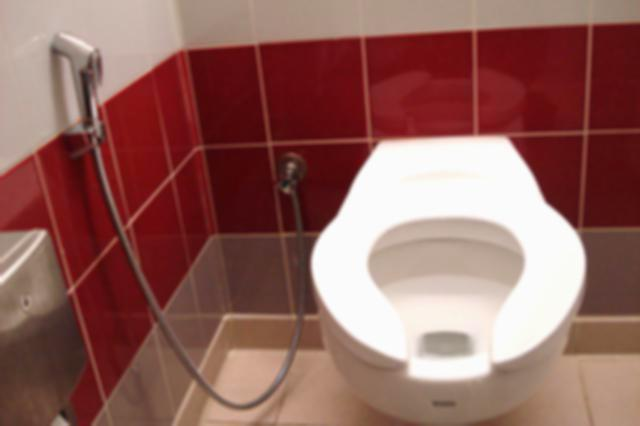Sanitario: (305, 94, 593, 422)
